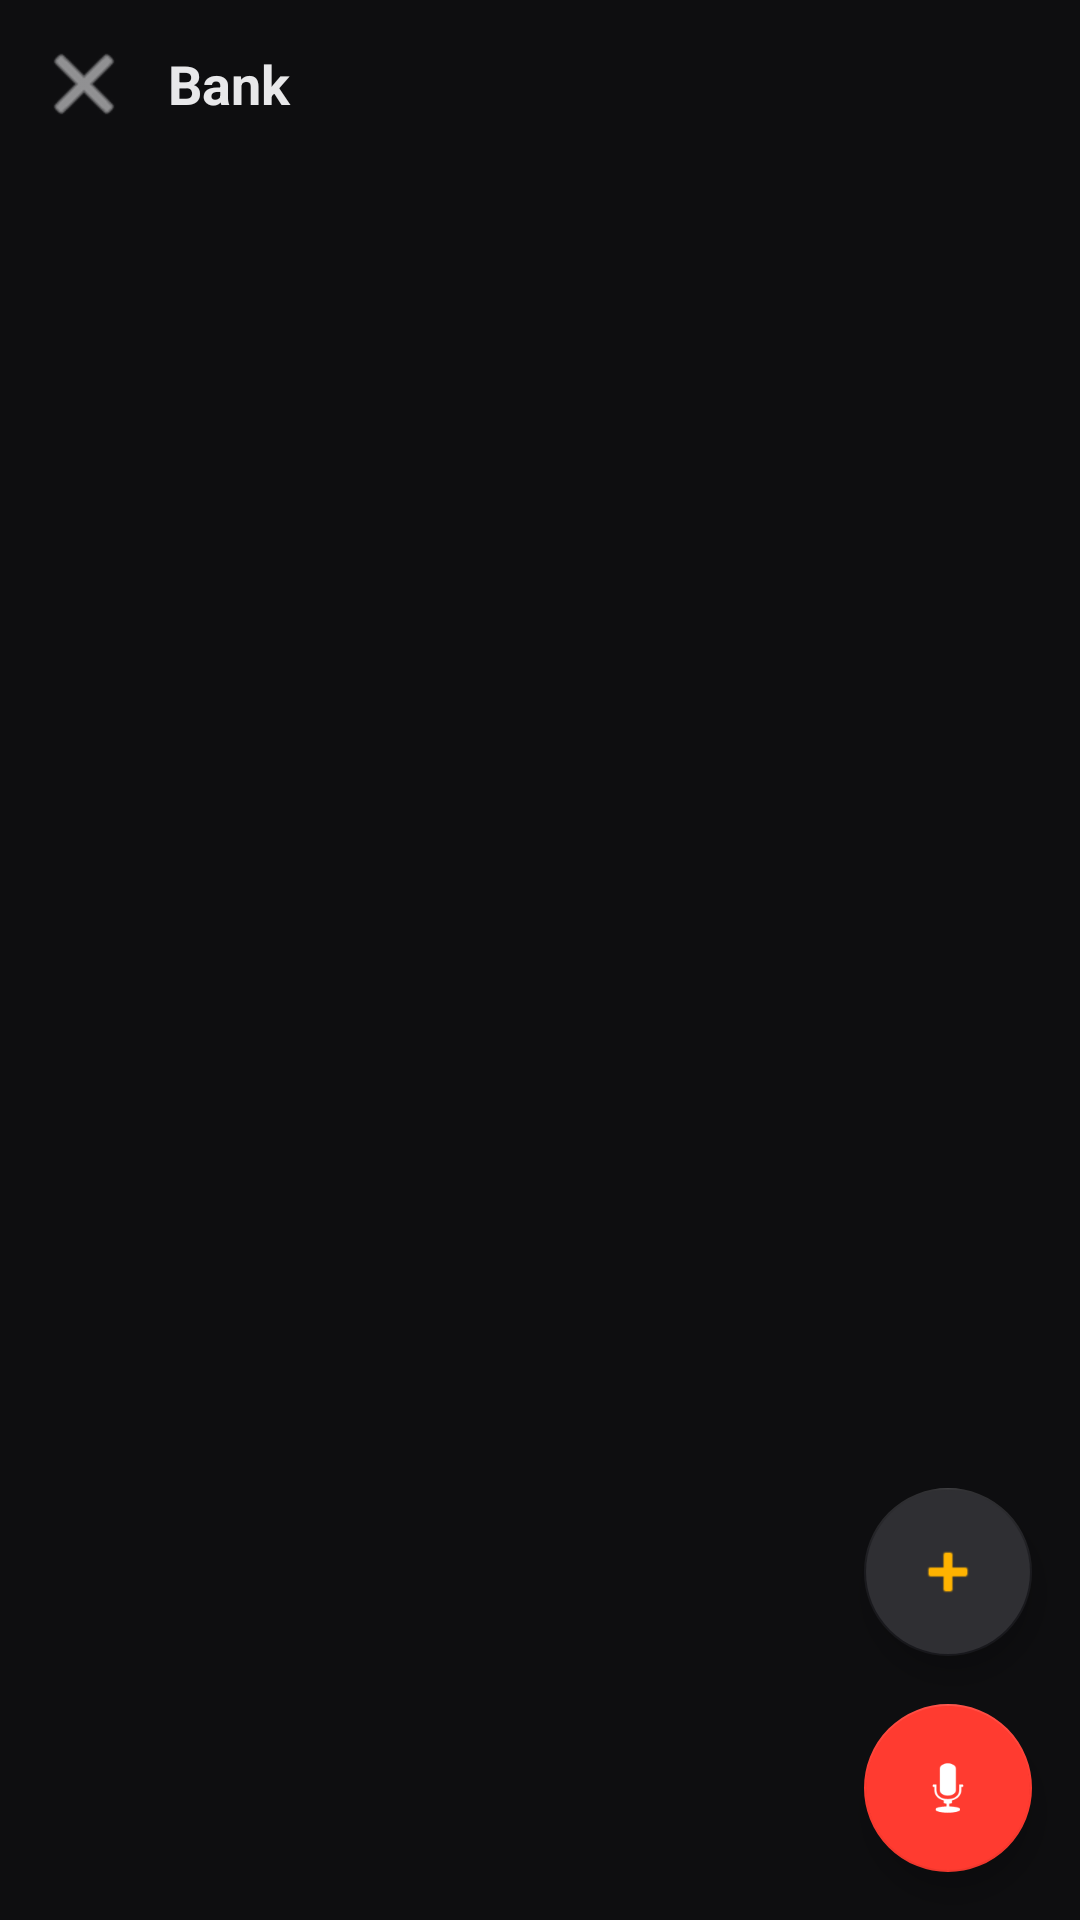

Where icons sit on this 1080×1920 app screen, as (x1, y1, x2, y2):
Записать: (864, 1704, 1032, 1872)
